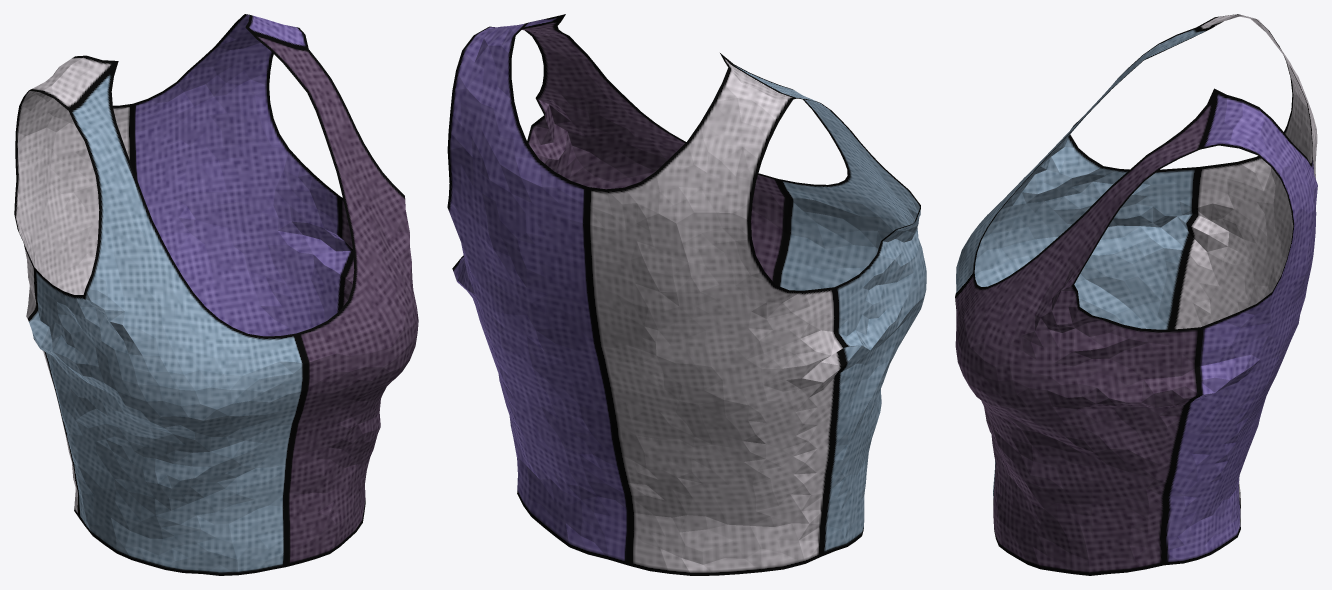
The model's file is tank_knit3_sim.obj.
3 views of the same model, side by side, from view 1: azimuth 30°, elevation 25°; view 2: azimuth 150°, elevation 25°; view 3: azimuth 270°, elevation 25° (orthographic). The views are drawn at different scales.
Bounding box in the file's own units: 22.61 × 29.01 × 20.42.
Materials: 1 (1 with a texture image).
